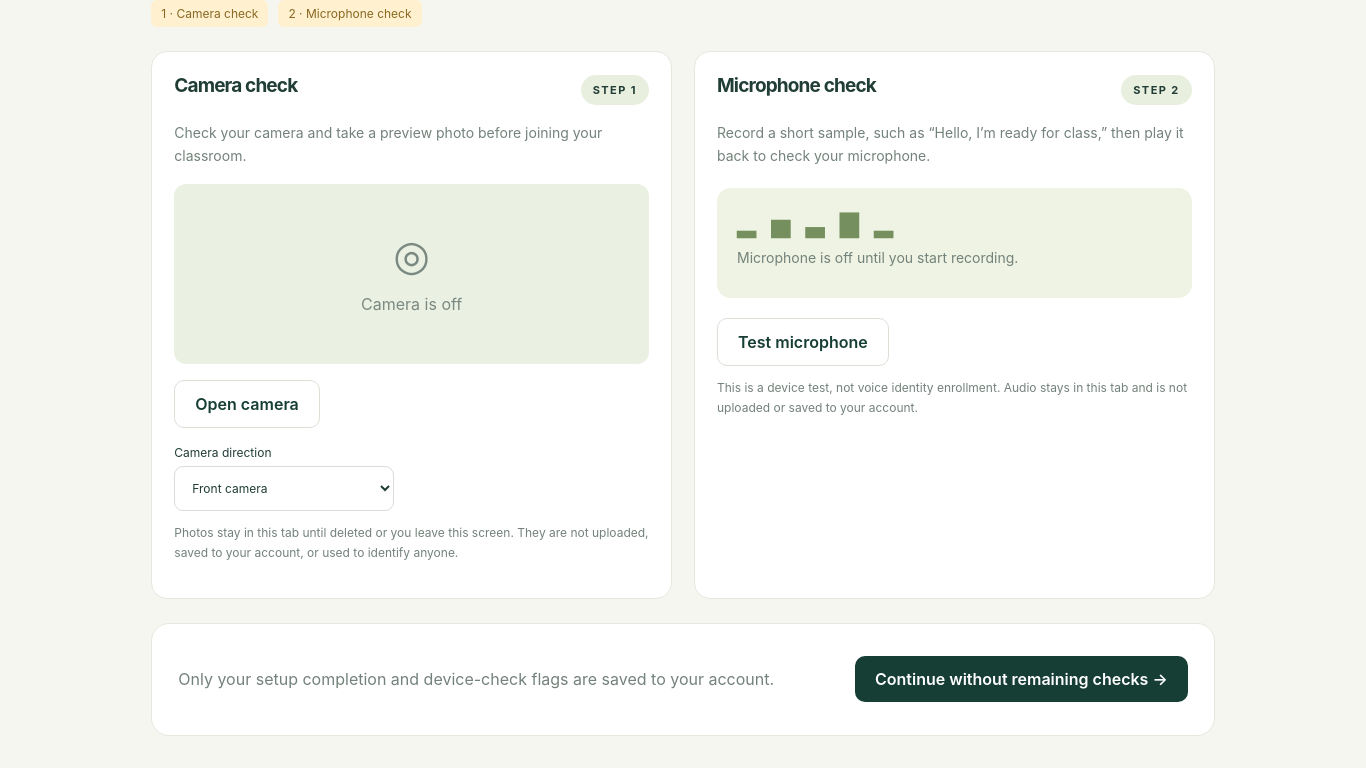
Test: shows a save error so students can retry
The width and height of the screenshot is (1366, 768).
(page scrolled)
What coordinates should you click on to do the following:
click the button "Continue without remaining checks →"
I would click on:
 (1021, 680)
Its box is [855,656,1188,702].
(page scrolled)
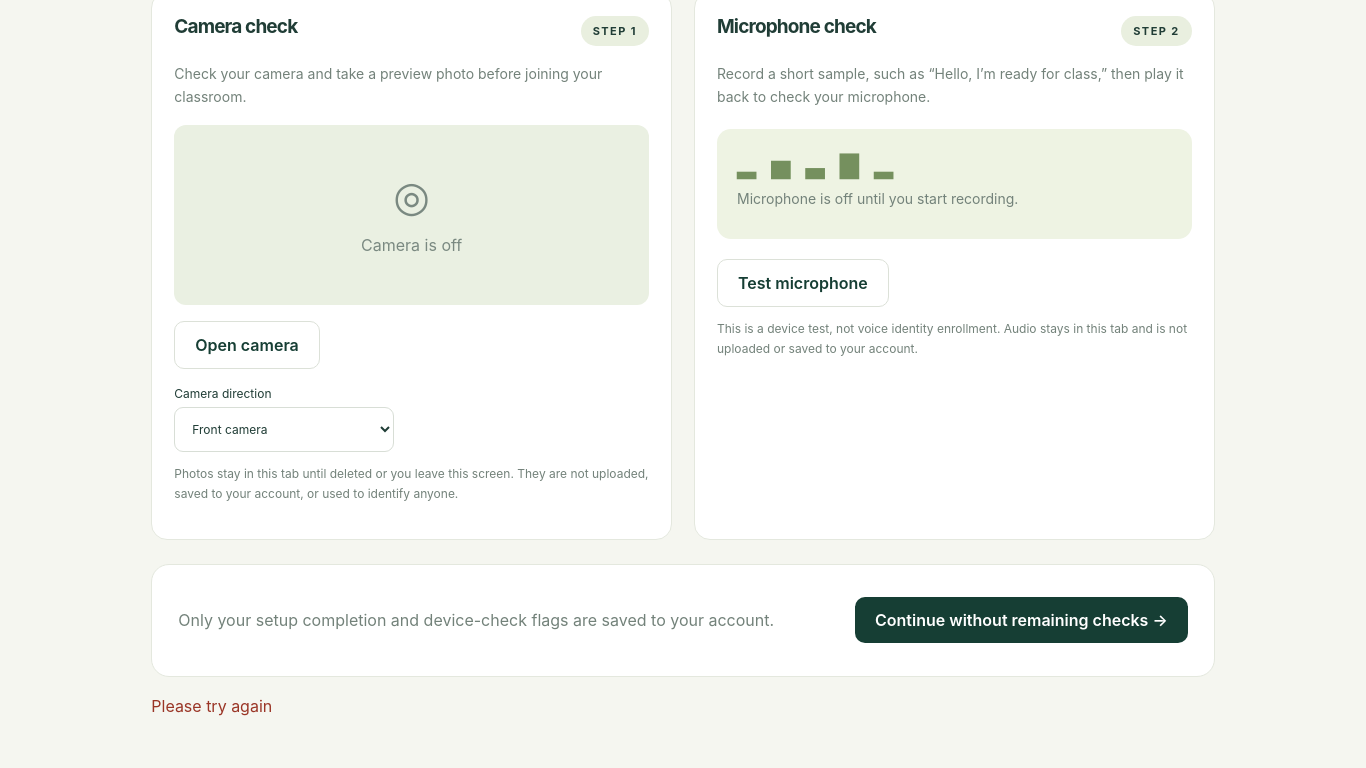
Expected: the message reads "Please try again", [151,696,272,716]
